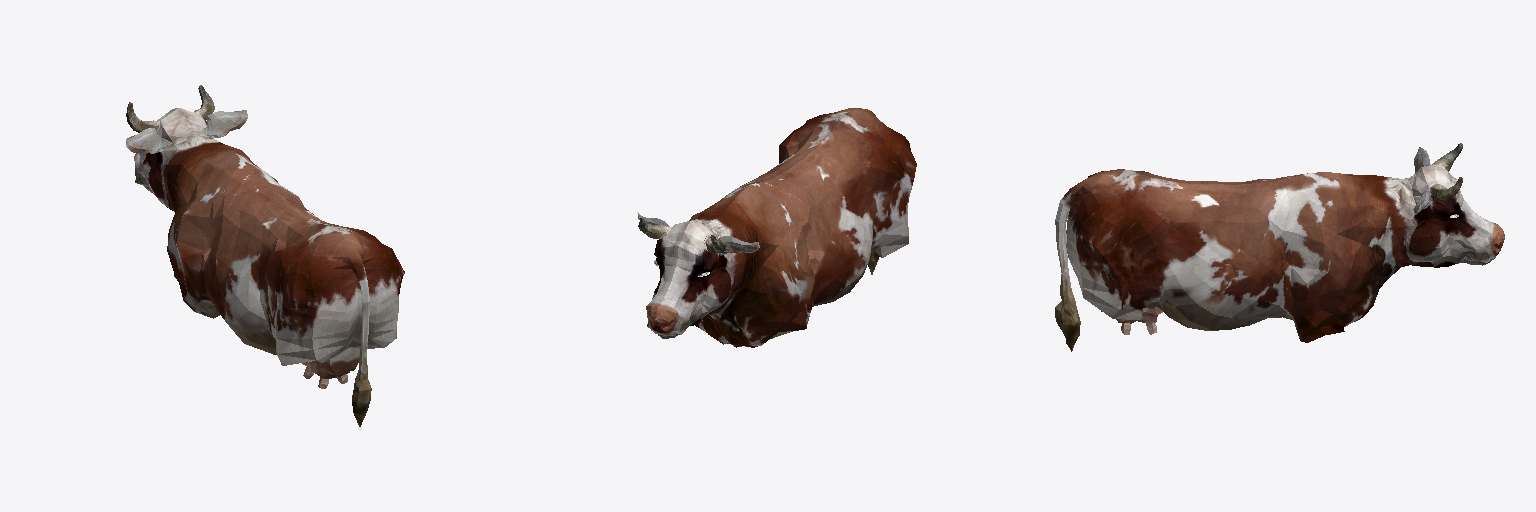
The picture shows the model from 3 angles: view 1: azimuth 30°, elevation 25°; view 2: azimuth 150°, elevation 25°; view 3: azimuth 270°, elevation 25°; orthographic projection.
Parts seen in each view (by area): view 1: Object003; view 2: Object003; view 3: Object003.
Boxes of the visible parts, x1=… form: Object003: x1=126, y1=85, x2=404, y2=426; Object003: x1=637, y1=108, x2=916, y2=347; Object003: x1=1055, y1=143, x2=1504, y2=351.
Size of the model in its own units: 3.07 by 4.65 by 9.84.
2 materials, 2 textured.